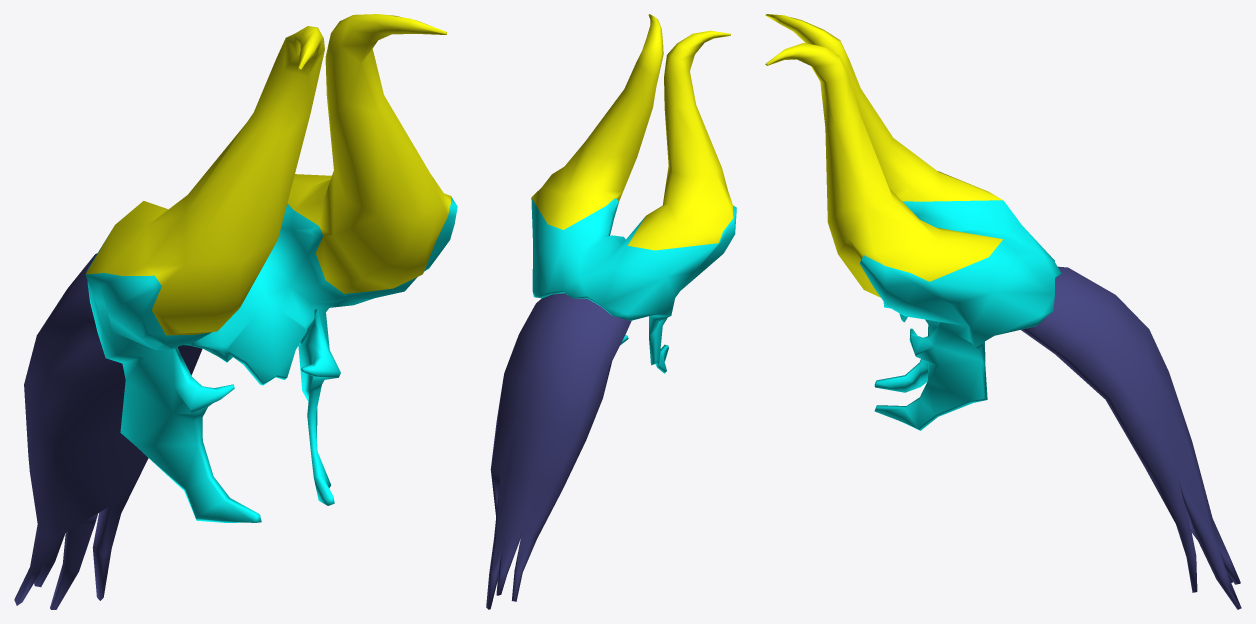
Rendered from doom_bringer_vColor_helmet.obj.
3 renders of one model, left to right at view 1: azimuth 30°, elevation 25°; view 2: azimuth 150°, elevation 25°; view 3: azimuth 270°, elevation 25°, orthographic. The views are drawn at different scales.
Visible parts, largest first — view 1: helmet rigid Doom_geo; view 2: helmet rigid Doom_geo; view 3: helmet rigid Doom_geo.
Part boxes in pixels (x1,y1,x2,y2): helmet rigid Doom_geo: (14, 14, 457, 609); helmet rigid Doom_geo: (486, 14, 736, 609); helmet rigid Doom_geo: (765, 14, 1241, 609).
Bounding box in the file's own units: 0.5356 × 1.24 × 0.9433.
